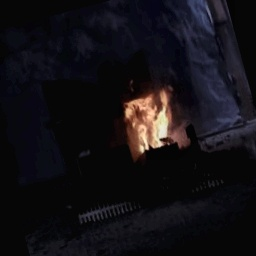fire: (110, 74, 191, 162)
